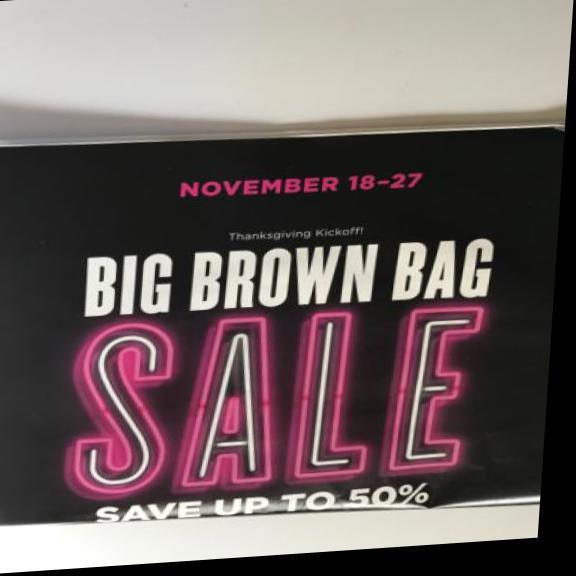Kertas: (0, 98, 567, 542)
